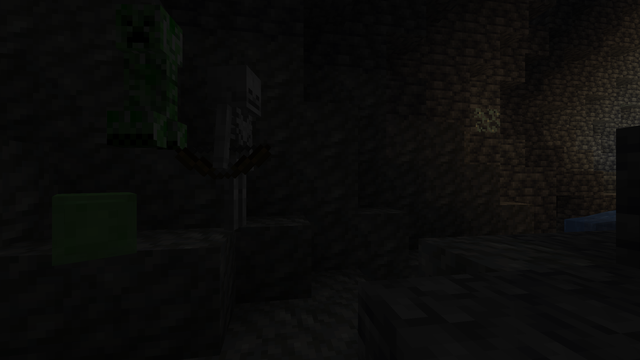creepers: (109, 0, 185, 151)
slimes: (32, 190, 144, 263)
squelettes: (205, 63, 260, 232)
